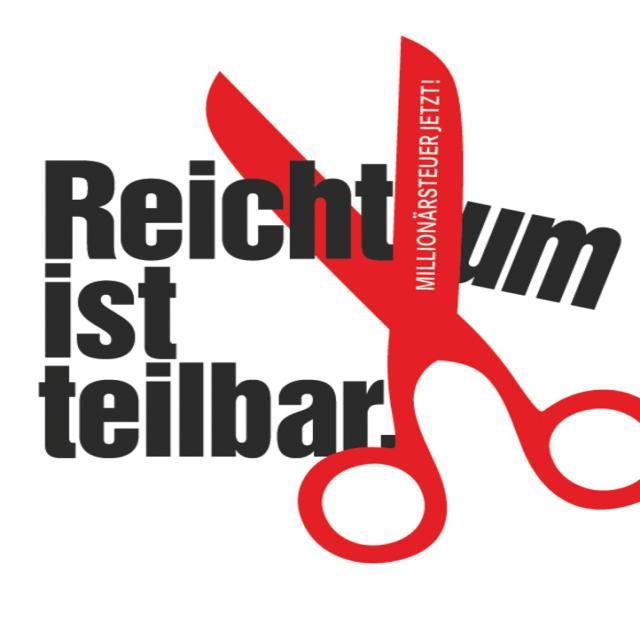scissors: (203, 35, 638, 563)
